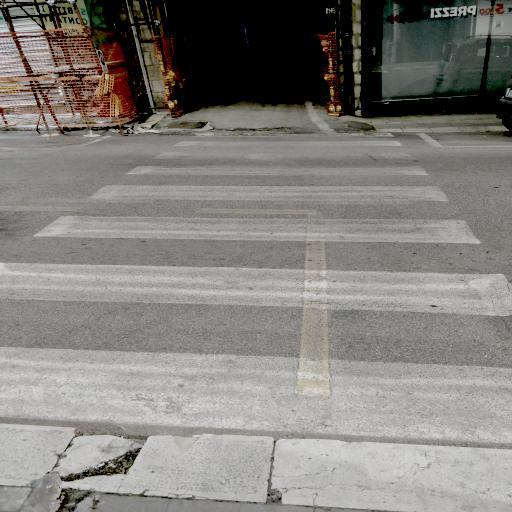crosswalk: (0, 260, 510, 429), (18, 180, 486, 248)
